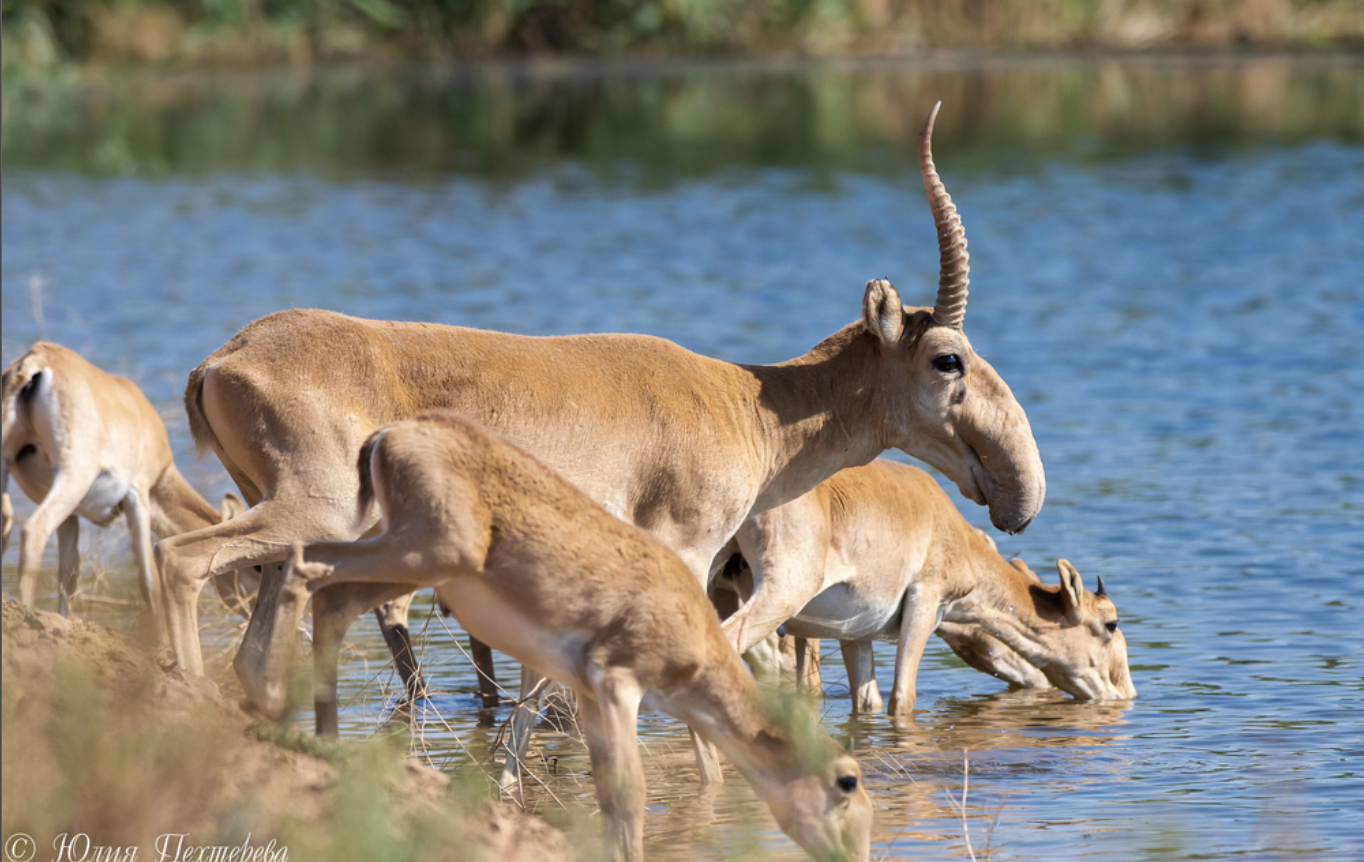saiga: (177, 72, 1050, 744)
